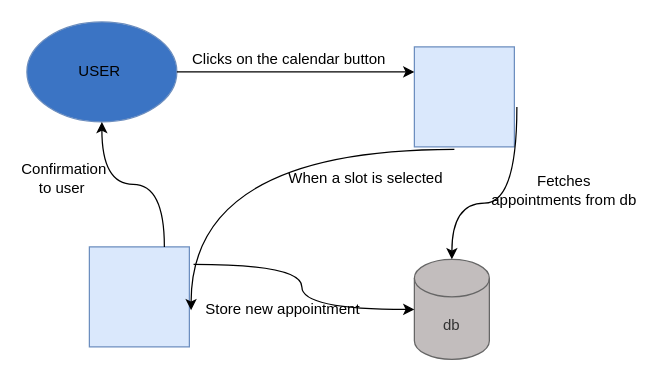
Some shapes in this 660 by 381 pixel diagram are drawn without their labels. The shapes that lost their labels are listed below. From the top down, each one's box as (x1, y1, x2, y2) in pixels, then its label:
(413, 46, 514, 147): 1. Calendar
(88, 246, 189, 347): 2. New Booking Window
